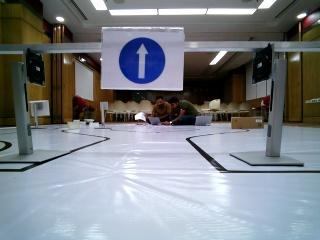straight: (102, 30, 184, 89)
